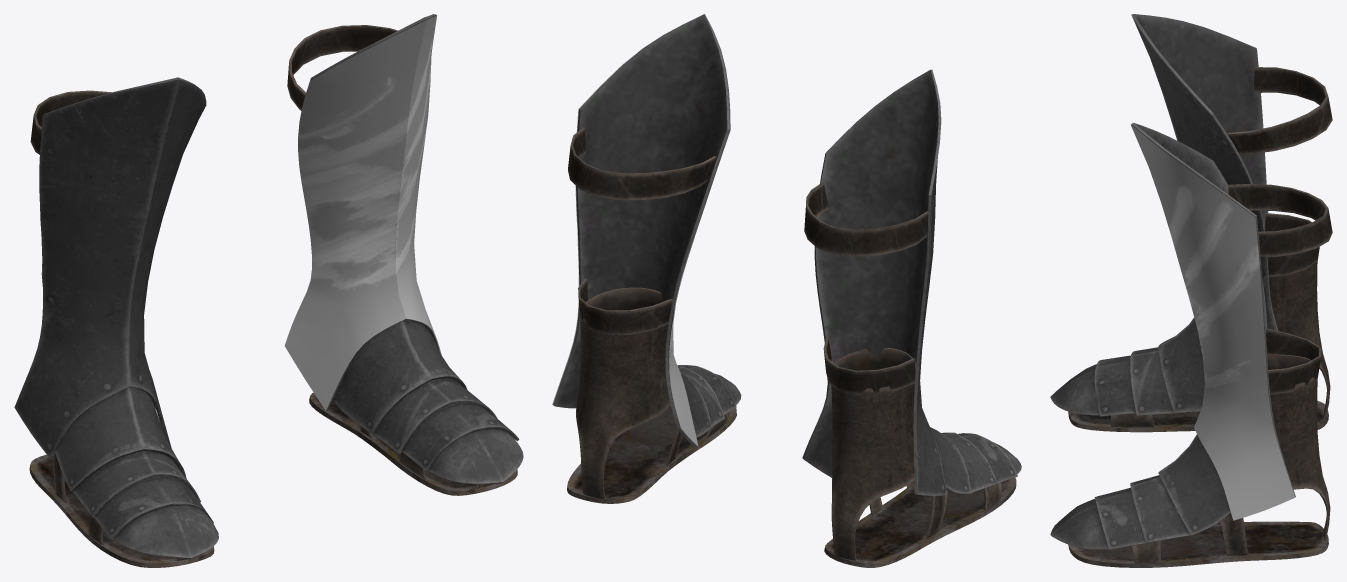
File: sk_uruk_hai_greaves_heavy_a3.fbx
3 views of the same model, side by side, from view 1: azimuth 30°, elevation 25°; view 2: azimuth 150°, elevation 25°; view 3: azimuth 270°, elevation 25° (orthographic). The views are drawn at different scales.
Parts seen in each view (by area): view 1: sk_uruk_hai_greaves_heavy_a3.0, sk_uruk_hai_greaves_heavy_a3.2, sk_uruk_hai_greaves_heavy_a3.1; view 2: sk_uruk_hai_greaves_heavy_a3.0, sk_uruk_hai_greaves_heavy_a3.1, sk_uruk_hai_greaves_heavy_a3.2; view 3: sk_uruk_hai_greaves_heavy_a3.0, sk_uruk_hai_greaves_heavy_a3.2, sk_uruk_hai_greaves_heavy_a3.1.
Boxes of the visible parts, x1=… form: sk_uruk_hai_greaves_heavy_a3.0: x1=14, y1=14, x2=523, y2=567; sk_uruk_hai_greaves_heavy_a3.2: x1=284, y1=15, x2=441, y2=410; sk_uruk_hai_greaves_heavy_a3.1: x1=30, y1=25, x2=397, y2=286; sk_uruk_hai_greaves_heavy_a3.0: x1=553, y1=14, x2=1021, y2=567; sk_uruk_hai_greaves_heavy_a3.1: x1=568, y1=127, x2=928, y2=394; sk_uruk_hai_greaves_heavy_a3.2: x1=552, y1=14, x2=730, y2=446; sk_uruk_hai_greaves_heavy_a3.0: x1=1050, y1=14, x2=1330, y2=567; sk_uruk_hai_greaves_heavy_a3.2: x1=1130, y1=124, x2=1295, y2=520; sk_uruk_hai_greaves_heavy_a3.1: x1=1228, y1=67, x2=1332, y2=394.
Bounding box in the file's own units: 0.4721 × 0.3122 × 0.5046.
Materials: 3 (3 with a texture image).
